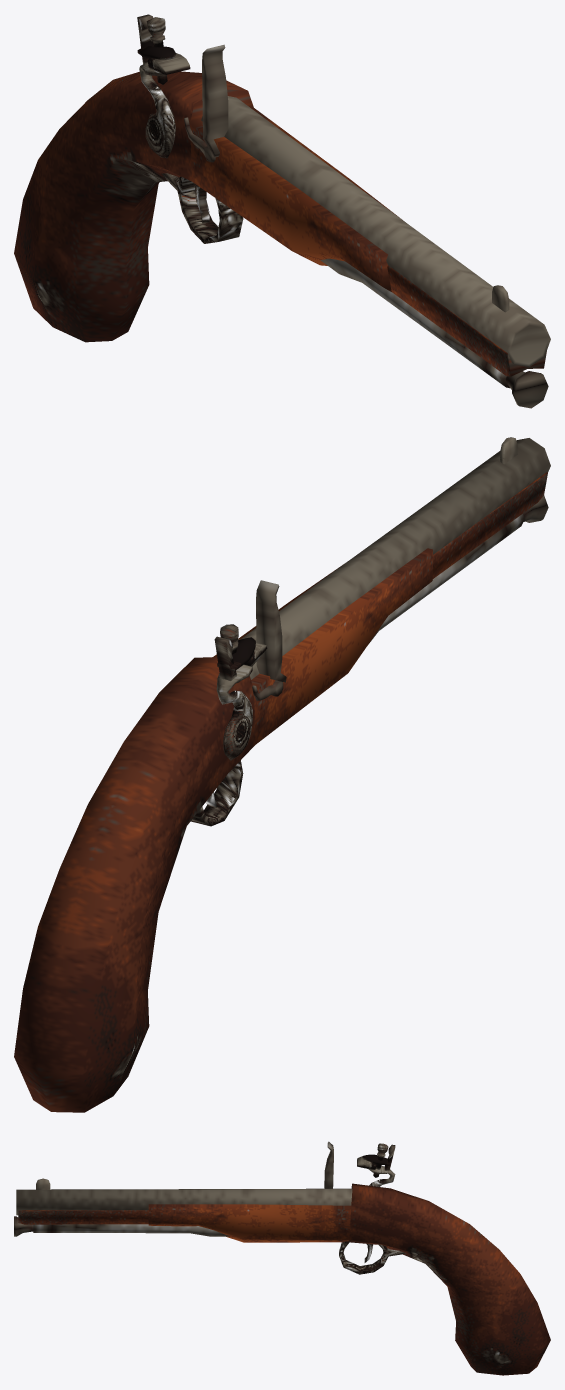
Rendered from pistola.fbx.
3 renders of one model, top to bottom at view 1: azimuth 30°, elevation 25°; view 2: azimuth 150°, elevation 25°; view 3: azimuth 270°, elevation 25°, orthographic. The views are drawn at different scales.
Visible parts, largest first — view 1: Flintlock_pistol; view 2: Flintlock_pistol; view 3: Flintlock_pistol.
Part boxes in pixels (<box>): Flintlock_pistol: <box>14,14,550,408</box>; Flintlock_pistol: <box>14,437,550,1112</box>; Flintlock_pistol: <box>14,1141,550,1375</box>.
Size of the model in its own units: 7.23 by 28.19 by 61.07.
Materials: 1 (1 with a texture image).
